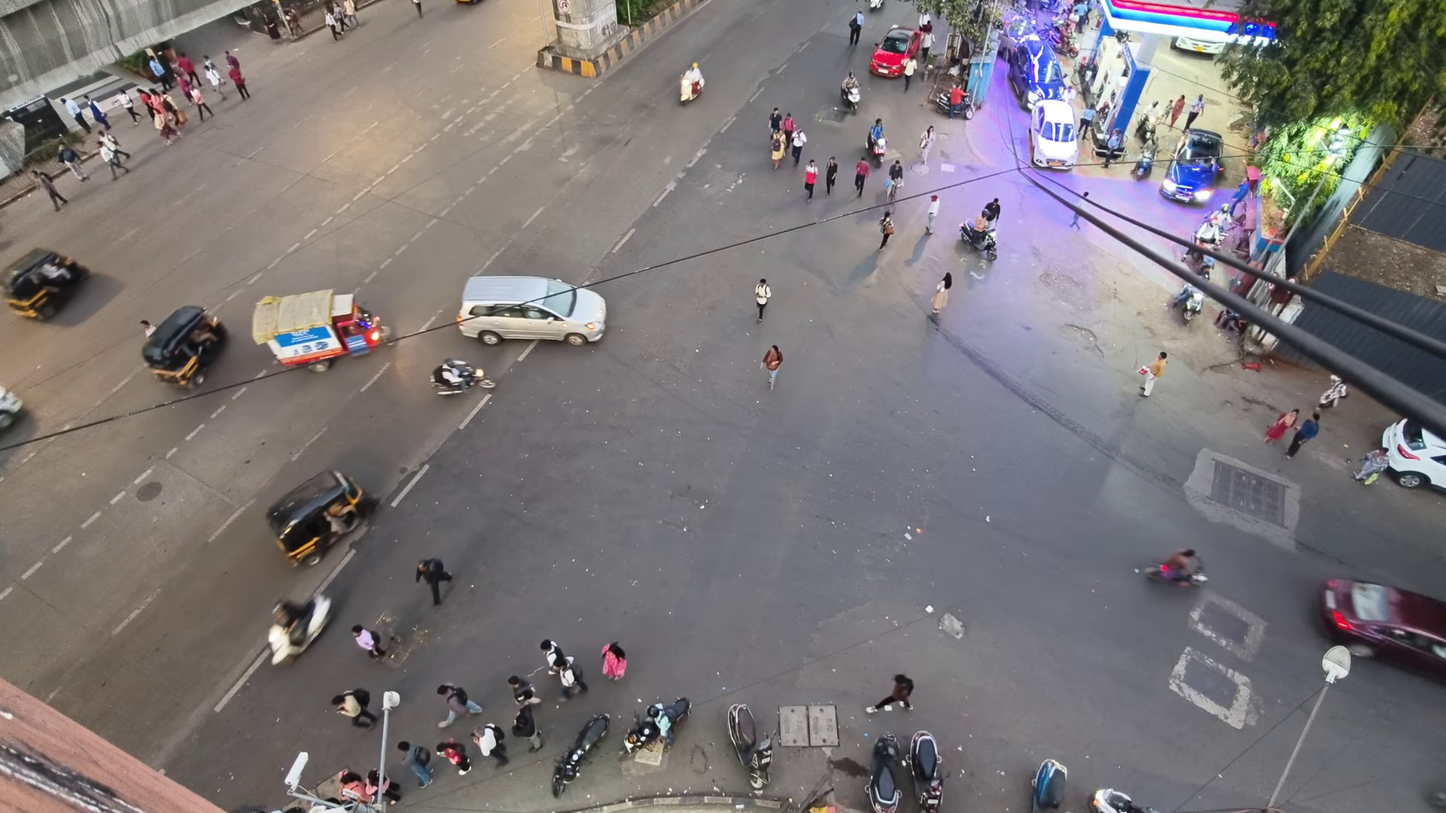walking: (541, 639, 587, 699), (437, 684, 482, 727), (866, 675, 913, 713), (414, 559, 452, 605), (331, 690, 376, 727), (397, 741, 432, 787), (472, 723, 508, 766), (1285, 412, 1319, 457), (32, 169, 68, 211), (512, 705, 542, 752), (365, 769, 401, 805), (436, 738, 471, 775), (99, 137, 129, 179), (1140, 351, 1167, 396), (352, 624, 386, 659), (1264, 409, 1298, 443), (337, 769, 371, 803), (58, 145, 87, 181), (61, 97, 90, 132), (508, 675, 541, 705), (761, 345, 782, 390), (932, 273, 952, 319), (602, 642, 626, 680), (154, 110, 180, 145), (1228, 179, 1251, 218), (84, 95, 110, 129), (203, 57, 224, 99), (149, 52, 172, 90), (1103, 128, 1124, 168), (116, 90, 139, 125), (190, 85, 213, 120), (1183, 93, 1204, 130), (228, 65, 250, 99), (176, 53, 199, 84), (886, 160, 903, 199), (790, 129, 807, 167), (755, 279, 770, 322), (878, 211, 894, 250), (770, 130, 786, 169), (325, 4, 341, 41), (920, 125, 935, 163), (920, 26, 933, 69), (804, 159, 817, 202), (855, 157, 869, 196), (927, 194, 941, 233), (949, 82, 964, 118), (903, 56, 917, 91), (849, 11, 863, 45), (825, 157, 837, 196), (780, 113, 796, 142), (343, 0, 358, 26), (769, 107, 782, 132), (139, 320, 156, 337), (224, 50, 238, 69), (1069, 211, 1081, 230), (412, 0, 423, 17)
